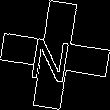N_N: (31, 27, 79, 83)
